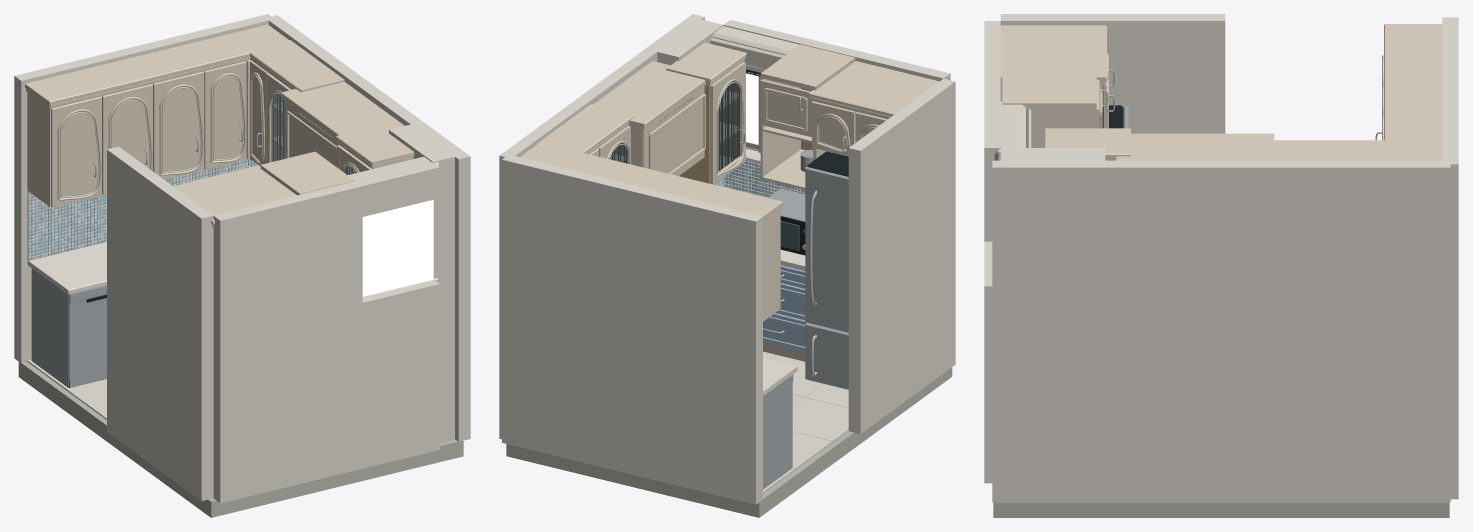
File: alex-kitchen.glb
3 views of the same model, side by side, from view 1: azimuth 30°, elevation 25°; view 2: azimuth 150°, elevation 25°; view 3: azimuth 270°, elevation 25° (orthographic). The views are drawn at different scales.
Visible parts, largest first — view 1: Window wall under sill - provisional, Wall beside fridge, Panel door (×5), Cornice crown (×6), Wall left of window, Window wall above, Cooker wall, Sink wall, Bosch SMS4EMI60V - 600 x 845 x 600, Room slab, Structural column 200 x 700, Daylight glazing (+9 smaller); view 2: Sink wall, Wall beside fridge, Cornice crown (×6), Main refrigerator door, Room slab, Limestone floor tile (×4), Cooker wall, Matching cornice, Removable ivory fascia - provisional, Bosch SMS4EMI60V - 600 x 845 x 600, Panel door (×2), Ceiling filler (+19 smaller); view 3: Cooker wall, Cornice crown (×6), Wall beside fridge, Room slab, Sink wall, Matching cornice, Ceiling filler, Window wall above, Window wall under sill - provisional, Upper left side, Structural column 200 x 700, AC indoor unit.
Boxes of the visible parts, x1,y1,x2,y2 form: Window wall under sill - provisional: (213,279,440,503); Wall beside fridge: (107,146,213,501); Panel door (×5): (51,60,267,207); Cornice crown (×6): (25,24,414,224); Wall left of window: (213,217,362,337); Window wall above: (213,162,440,251); Cooker wall: (269,15,470,441); Sink wall: (14,14,274,363); Bosch SMS4EMI60V - 600 x 845 x 600: (31,268,106,387); Room slab: (18,362,463,517); Structural column 200 x 700: (389,124,454,442); Daylight glazing: (362,200,433,296); Sink wall: (502,154,762,504); Wall beside fridge: (848,78,955,433); Cornice crown (×6): (520,42,939,220); Main refrigerator door: (805,167,848,332); Room slab: (506,367,952,517); Limestone floor tile (×4): (770,354,848,469); Cooker wall: (499,14,704,439); Matching cornice: (593,61,705,129); Removable ivory fascia - provisional: (643,86,704,175); Bosch SMS4EMI60V - 600 x 845 x 600: (763,375,792,489); Panel door (×2): (760,79,855,156); Ceiling filler: (760,44,855,90); Cooker wall: (992,160,1450,502); Cornice crown (×6): (1000,24,1442,160); Wall beside fridge: (1000,14,1225,133); Room slab: (993,502,1449,517); Sink wall: (1442,17,1458,499); Matching cornice: (1116,133,1274,160); Ceiling filler: (1002,71,1096,107); Window wall above: (984,21,1000,184); Window wall under sill - provisional: (984,241,992,483); Upper left side: (1026,107,1096,147); Structural column 200 x 700: (1000,148,1105,160); AC indoor unit: (994,101,1025,160).
Bounding box in the file's own units: 2.43 × 2.61 × 3.17.
